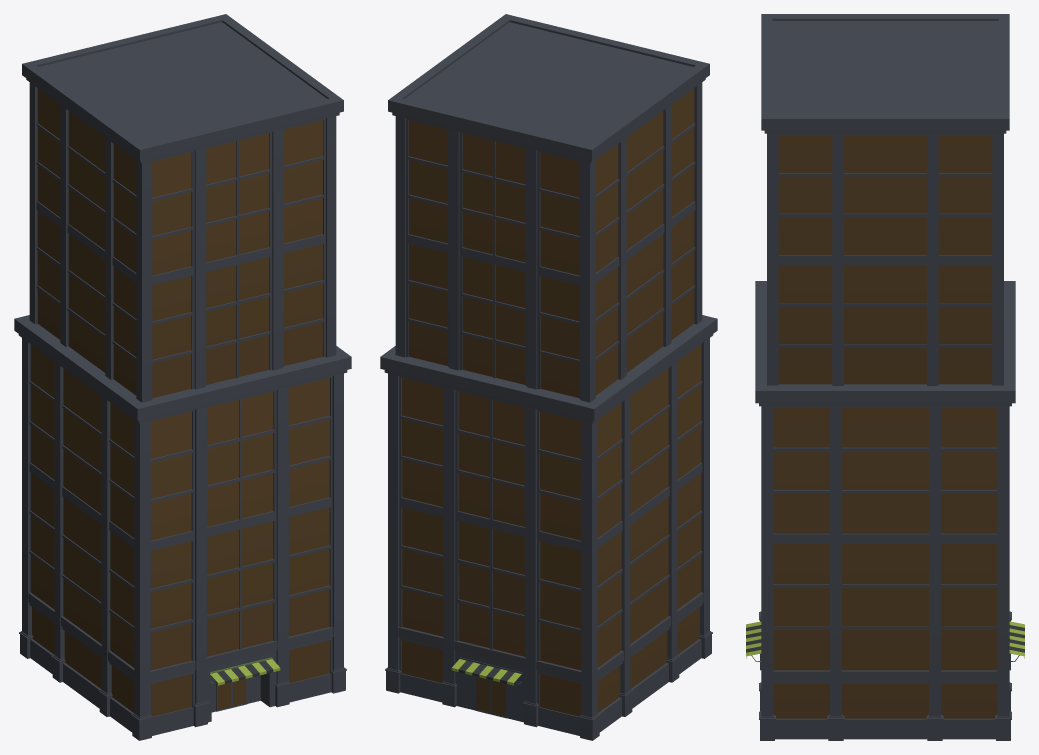
The model's file is House_38.fbx.
The picture shows the model from 3 angles, left to right: view 1: azimuth 30°, elevation 25°; view 2: azimuth 150°, elevation 25°; view 3: azimuth 270°, elevation 25°; orthographic projection. The views are drawn at different scales.
Parts seen in each view (by area): view 1: House_38; view 2: House_38; view 3: House_38.
Boxes of the visible parts, <box> form: House_38: <box>14,14,351,740</box>; House_38: <box>380,14,717,740</box>; House_38: <box>746,14,1024,740</box>.
Size of the model in its own units: 12.06 by 31.77 by 12.93.
